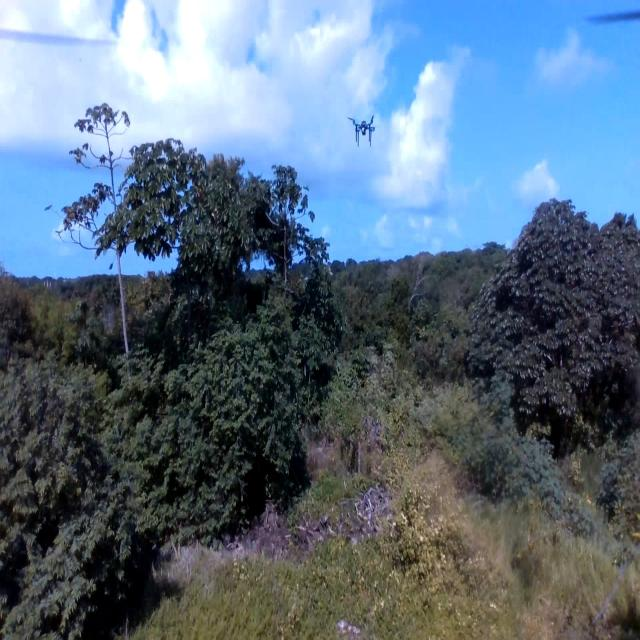-uav-: (342, 105, 384, 153)
